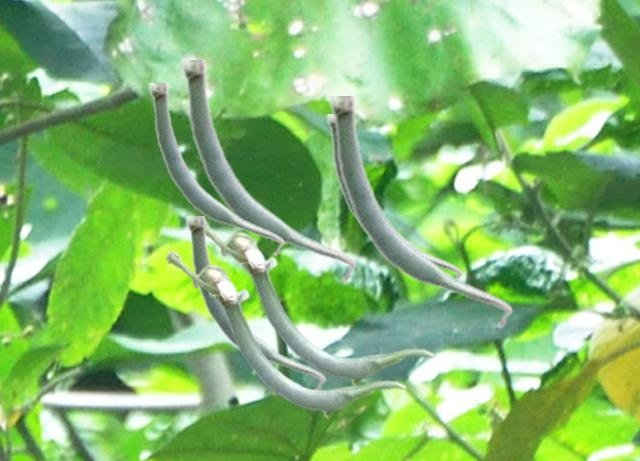french_bean: (328, 96, 512, 329), (165, 249, 406, 418), (180, 60, 356, 283), (207, 219, 434, 384), (185, 216, 325, 388), (148, 83, 284, 256), (326, 114, 462, 279)
